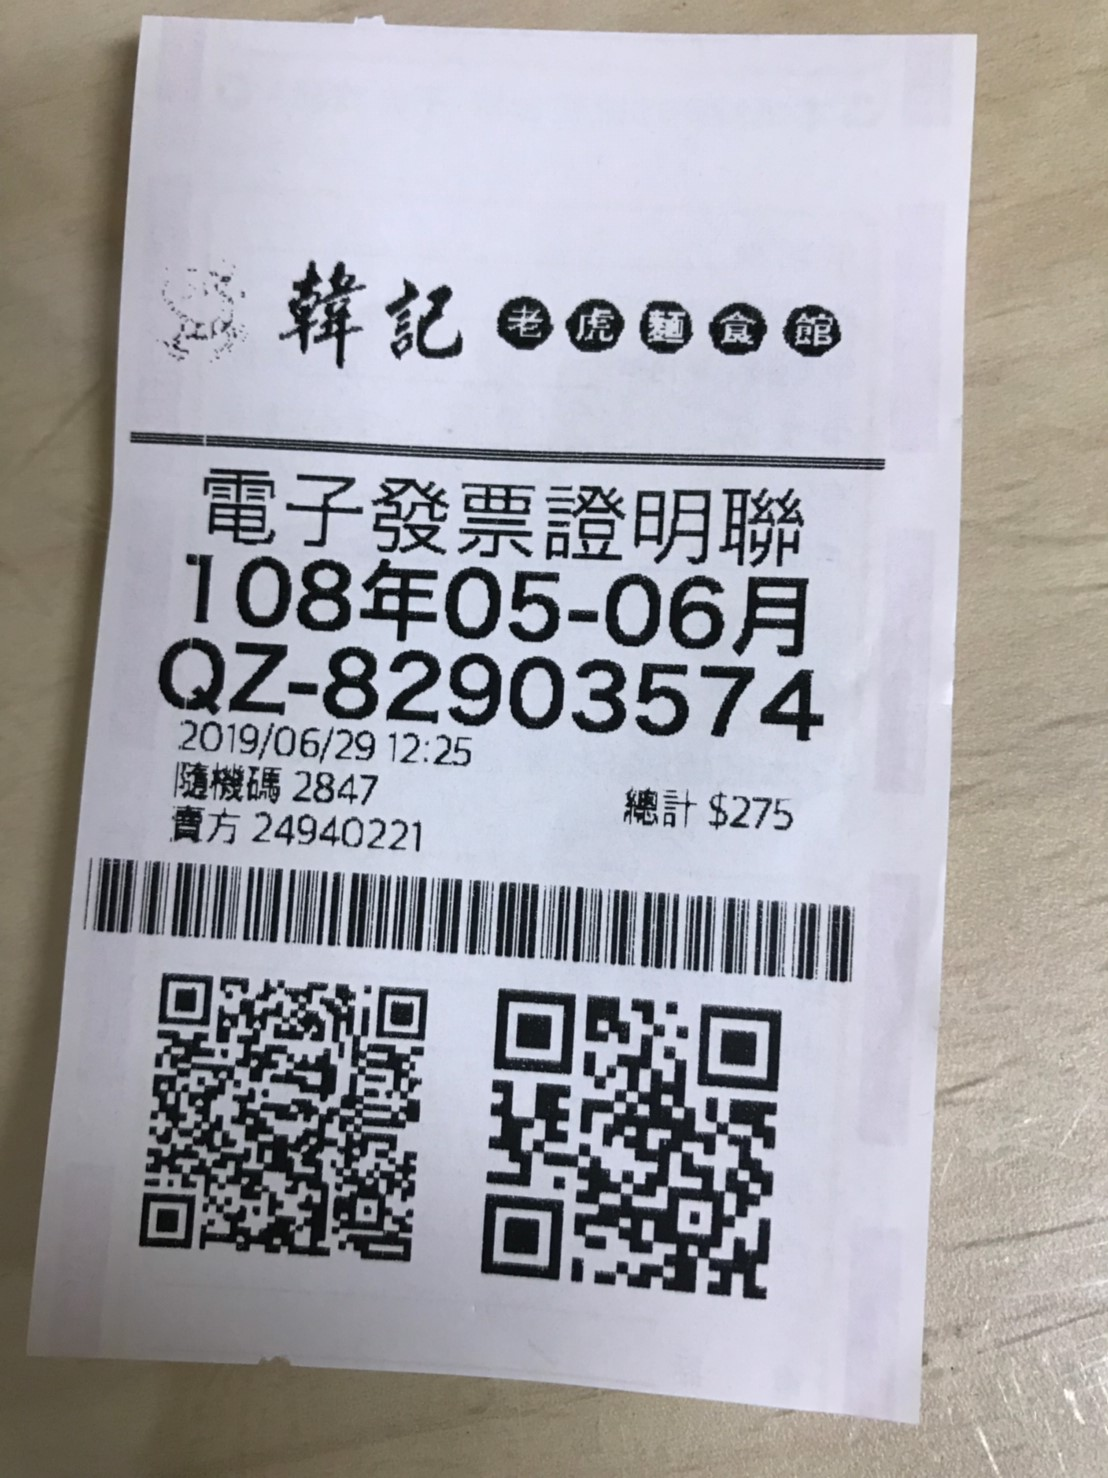Date_New: (183, 550, 812, 661)
Number_New: (324, 638, 829, 748)
